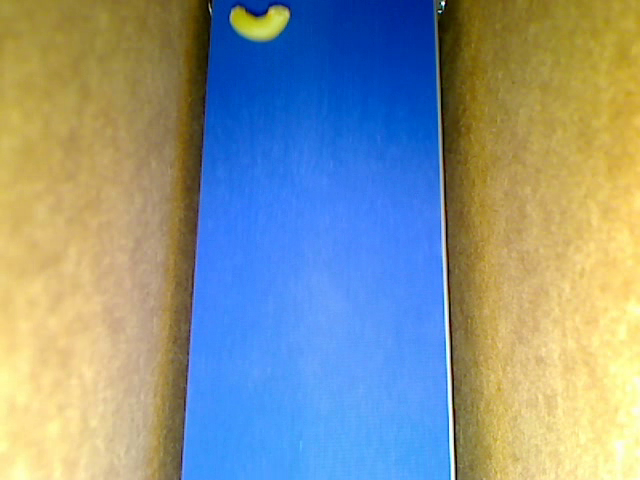elbow: (228, 6, 289, 41)
